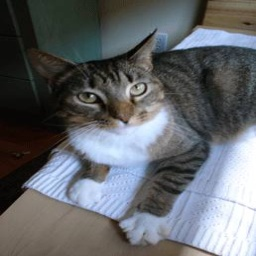cat: (24, 41, 256, 247)
